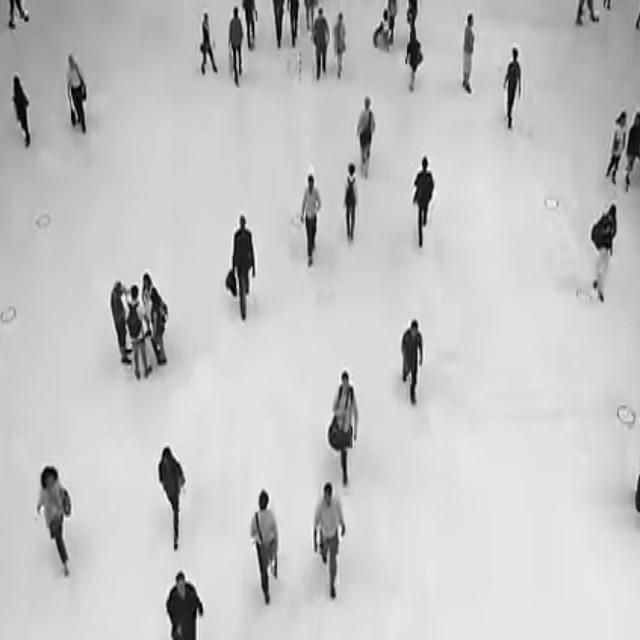humans: (32, 464, 82, 587), (248, 485, 286, 616), (314, 476, 349, 609), (155, 442, 192, 559), (331, 370, 361, 495), (161, 568, 207, 640), (595, 198, 621, 322), (231, 212, 256, 328), (412, 152, 438, 258), (400, 315, 427, 416), (63, 48, 90, 144), (356, 95, 378, 190), (127, 286, 148, 384), (147, 288, 171, 372), (301, 168, 320, 271), (503, 41, 522, 138), (607, 106, 628, 190), (10, 72, 32, 152), (108, 279, 127, 367), (343, 159, 359, 247), (229, 6, 245, 93), (199, 9, 217, 83), (138, 268, 156, 340), (406, 24, 424, 96), (464, 13, 479, 99), (313, 8, 330, 82), (333, 12, 348, 82), (629, 111, 640, 203)
